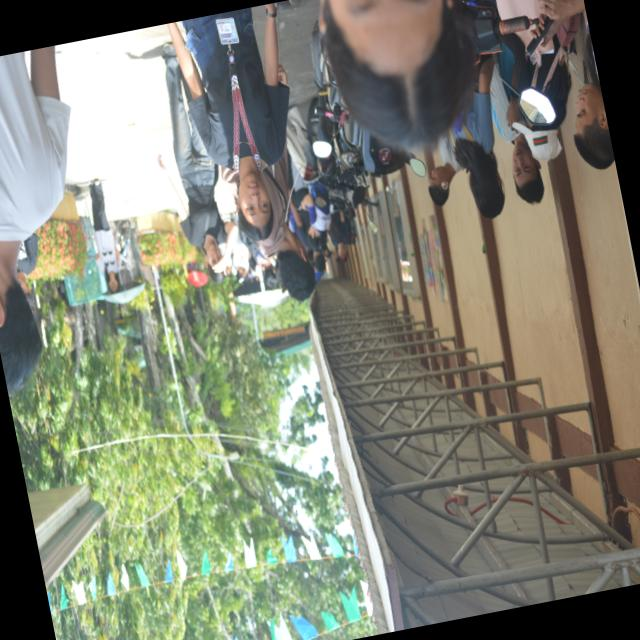person: (168, 3, 289, 240), (0, 46, 69, 392), (320, 0, 471, 146), (158, 42, 238, 282), (451, 54, 505, 218), (491, 68, 544, 203), (574, 24, 614, 168), (89, 178, 121, 292), (429, 134, 461, 205), (17, 233, 38, 306), (327, 210, 349, 261)
